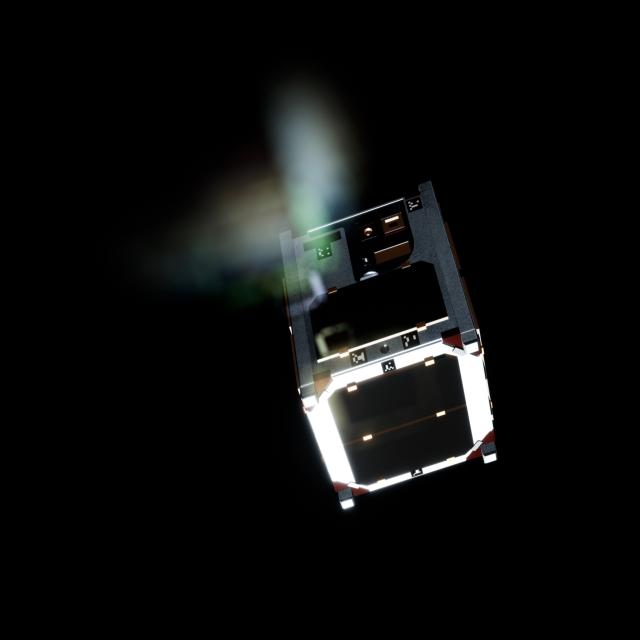medium_debris: (278, 175, 514, 519)
